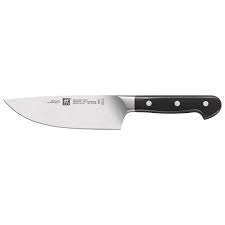knife: (3, 86, 223, 134)
